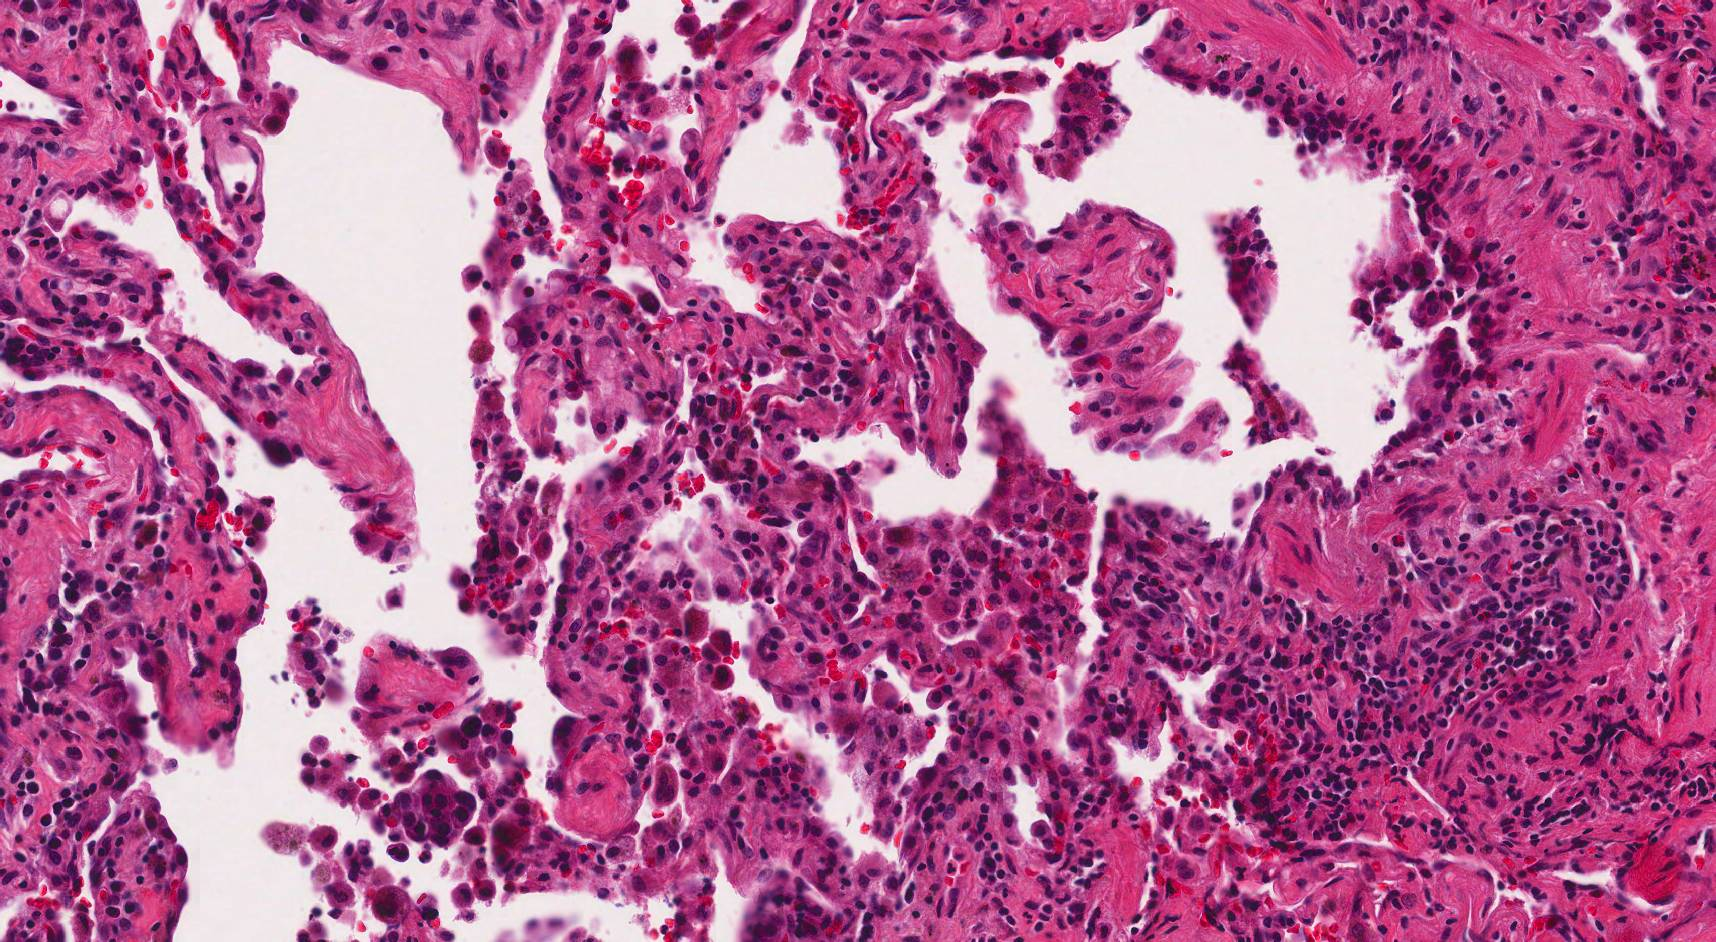stas: (380, 768, 475, 848)
